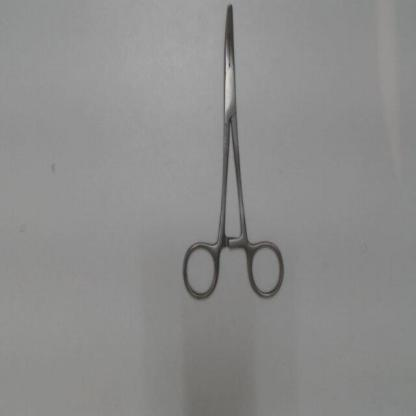Crile Artery Forceps: (176, 3, 290, 306)
